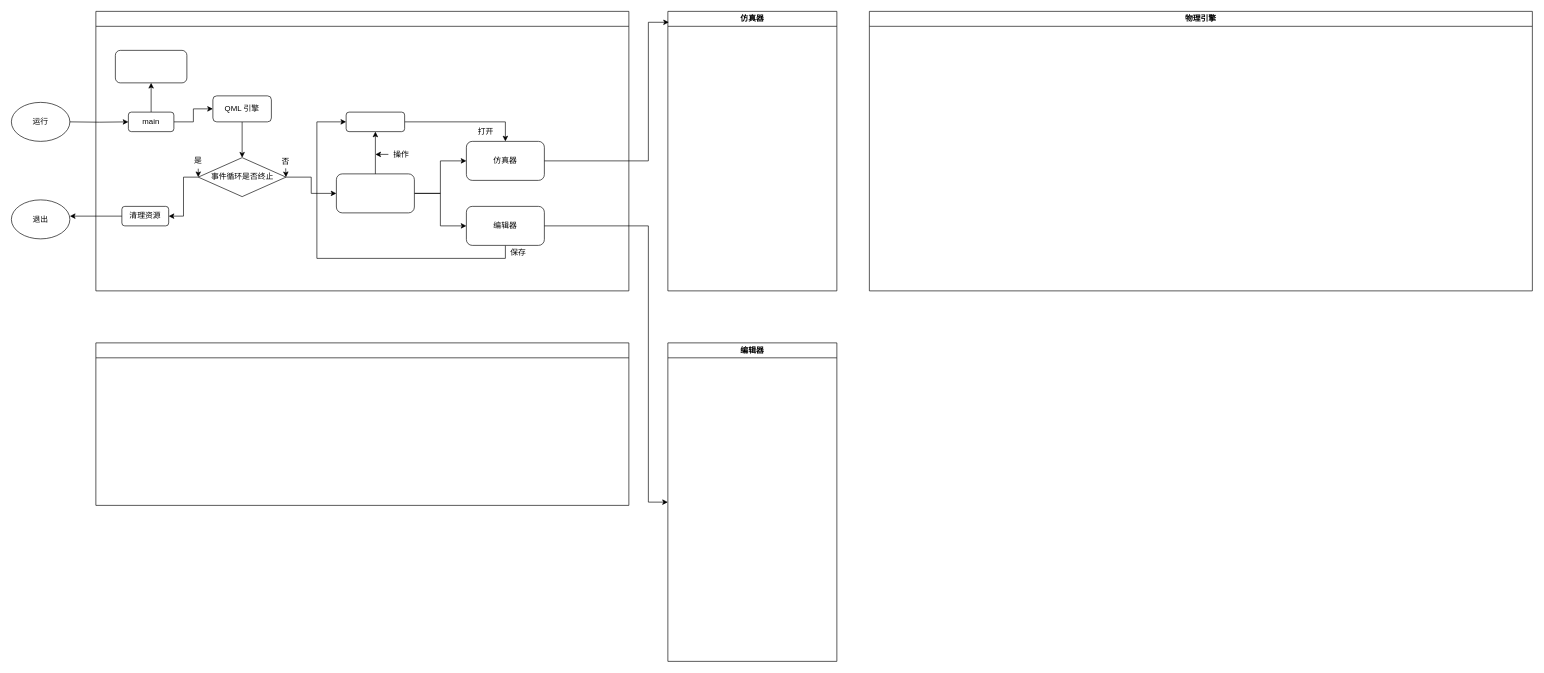
Image size: 1544x673. Some labels were removed from this diagram. The shapes that lost their labels are listed below. From the top down, each one's box as (x1, y1, x2, y2) in pixels, then its label:
(115, 50, 187, 83): Qt Application 资源 RAII
(345, 111, 405, 132): 菜单栏
(95, 11, 629, 291): 主程序
(336, 173, 414, 213): Main Window QML 端
(95, 342, 629, 505): 工具
